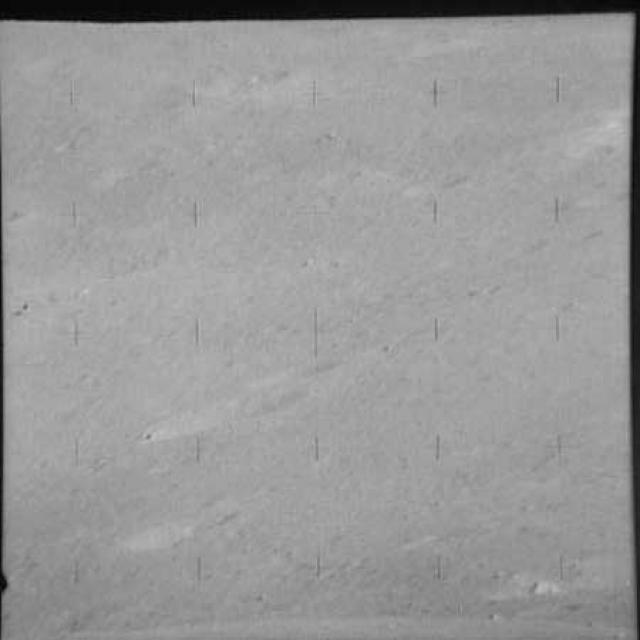crater: (132, 366, 321, 455), (104, 510, 214, 559), (402, 162, 479, 206)
